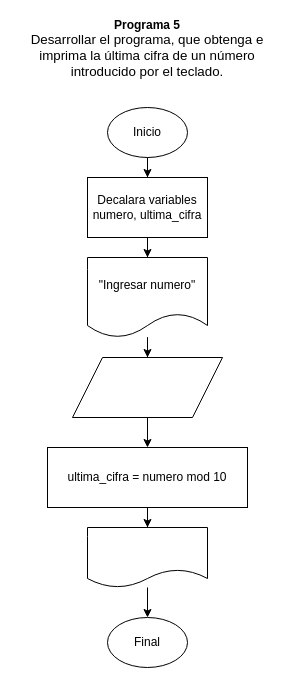
The diagram is 294 pixels wide and 685 high, and some of its shapes have lost their labels. Each missing label, with the centre of its shape:
"Guardar entrada en numero" belongs at point (147, 387).
"ultima_cifra" belongs at point (147, 557).
